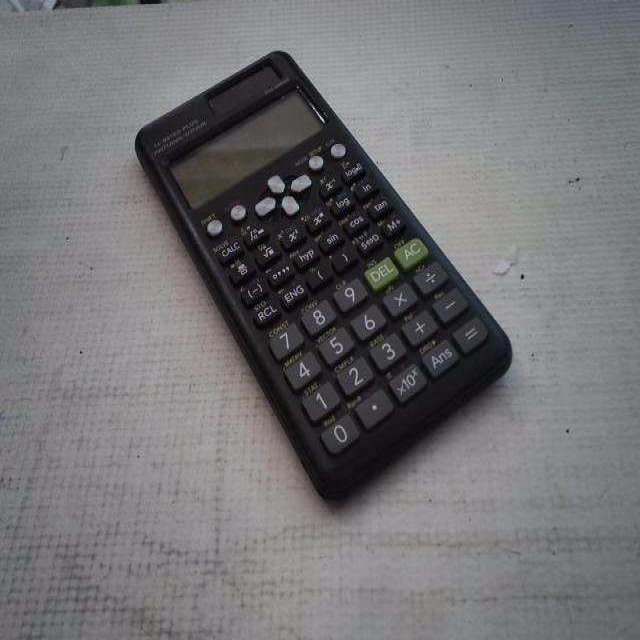Calculator: (131, 47, 515, 506)
